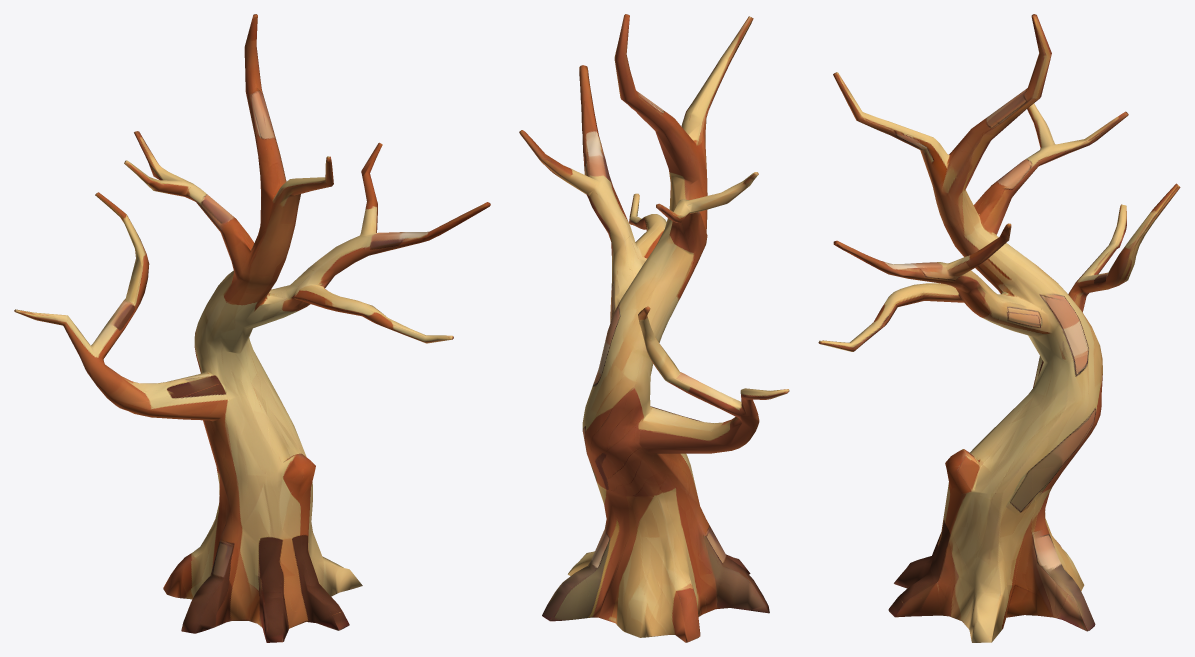
File: irrhakur_dead_tree_2.glb
3 renders of one model, left to right at view 1: azimuth 30°, elevation 25°; view 2: azimuth 150°, elevation 25°; view 3: azimuth 270°, elevation 25°, orthographic. The views are drawn at different scales.
Visible parts, largest first — view 1: Mesh_0; view 2: Mesh_0; view 3: Mesh_0.
Part boxes in pixels (x1,y1,x2,y2): Mesh_0: [14, 14, 490, 642]; Mesh_0: [519, 14, 789, 642]; Mesh_0: [818, 14, 1180, 642].
Size of the model in its own units: 1.19 by 1.91 by 1.06.
Materials: 1 (1 with a texture image).
